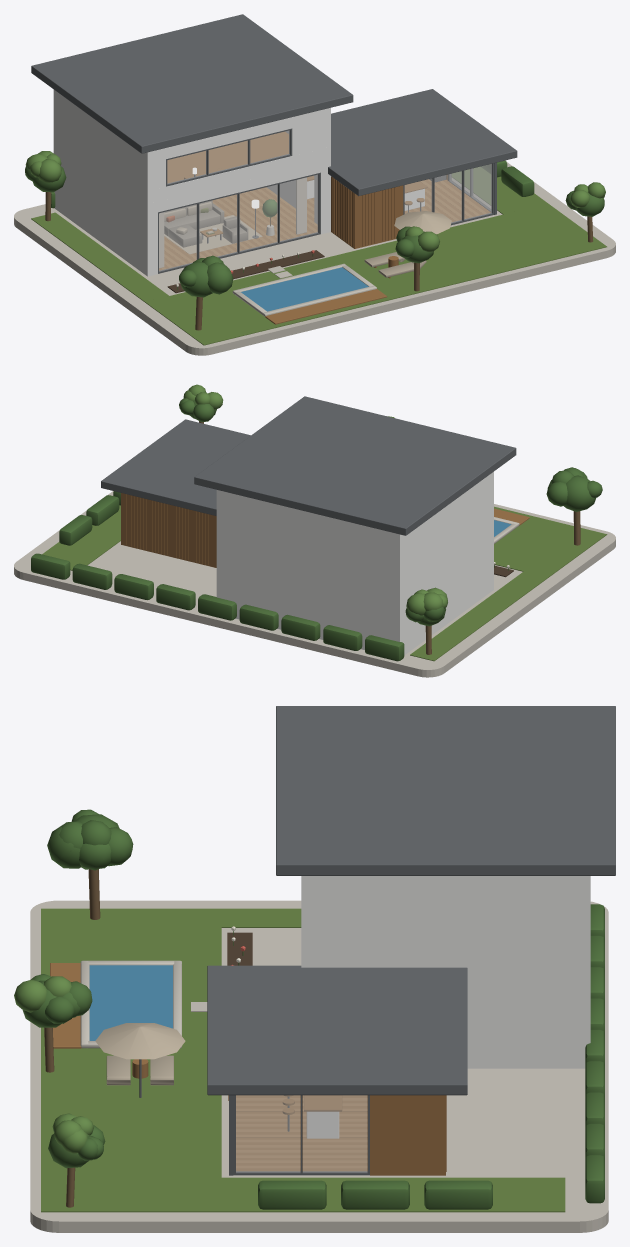
File: house.glb
3 views of the same model, one above another, from view 1: azimuth 30°, elevation 25°; view 2: azimuth 150°, elevation 25°; view 3: azimuth 270°, elevation 25° (orthographic). The views are drawn at different scales.
Visible parts, largest first — view 1: Main_Roof, Lawn_Front, Plinth, Wing_Roof, MainWall_L, Lawn_Left, Pool_Water, Main_FloorUp, MainWall_FUSill, Glass_Slider2, MainWall_FUTop, Glass_Slider3 (+30 smaller); view 2: Main_Roof, MainWall_Back, Plinth, MainWall_L, Wing_Roof, Lawn_Front, Lawn_Left, WingWall_Back, Lawn_Right, TreeA_Clump0, Hedge_Back7, Hedge_Back8 (+10 smaller); view 3: Main_Roof, Plinth, Lawn_Front, Wing_Roof, MainWall_R2, Lawn_Right, Wing_Floor, Pool_Water, Glass_WingS1, Glass_WingS2, MainWall_R3, MainWall_R1 (+14 smaller).
Boxes of the visible parts, bbox=[...] form: Main_Roof: bbox=[31, 14, 353, 153]; Lawn_Front: bbox=[145, 203, 606, 345]; Plinth: bbox=[14, 162, 615, 355]; Wing_Roof: bbox=[328, 89, 517, 196]; MainWall_L: bbox=[53, 90, 151, 275]; Lawn_Left: bbox=[31, 212, 168, 301]; Pool_Water: bbox=[241, 267, 368, 311]; Main_FloorUp: bbox=[167, 131, 288, 183]; MainWall_FUSill: bbox=[146, 147, 330, 203]; Glass_Slider2: bbox=[199, 194, 237, 257]; MainWall_FUTop: bbox=[145, 107, 330, 163]; Glass_Slider3: bbox=[240, 184, 277, 251]; Main_Roof: bbox=[194, 396, 516, 535]; MainWall_Back: bbox=[216, 490, 401, 649]; Plinth: bbox=[14, 491, 615, 677]; MainWall_L: bbox=[396, 472, 493, 655]; Wing_Roof: bbox=[101, 419, 250, 515]; Lawn_Front: bbox=[494, 506, 607, 577]; Lawn_Left: bbox=[410, 571, 548, 661]; WingWall_Back: bbox=[121, 494, 216, 567]; Lawn_Right: bbox=[42, 505, 120, 570]; TreeA_Clump0: bbox=[564, 475, 595, 511]; Hedge_Back7: bbox=[72, 563, 112, 589]; Hedge_Back8: bbox=[31, 553, 70, 579]; Main_Roof: bbox=[276, 706, 615, 875]; Plinth: bbox=[30, 900, 608, 1232]; Lawn_Front: bbox=[41, 908, 221, 1212]; Wing_Roof: bbox=[207, 965, 467, 1095]; MainWall_R2: bbox=[384, 876, 590, 1068]; Lawn_Right: bbox=[221, 1177, 565, 1212]; Wing_Floor: bbox=[236, 1095, 367, 1170]; Pool_Water: bbox=[89, 965, 172, 1040]; Glass_WingS1: bbox=[236, 1095, 299, 1171]; Glass_WingS2: bbox=[303, 1095, 366, 1171]; MainWall_R3: bbox=[341, 876, 384, 967]; MainWall_R1: bbox=[301, 876, 340, 967].
Size of the model in its own units: 21 by 6.9 by 16.65.
